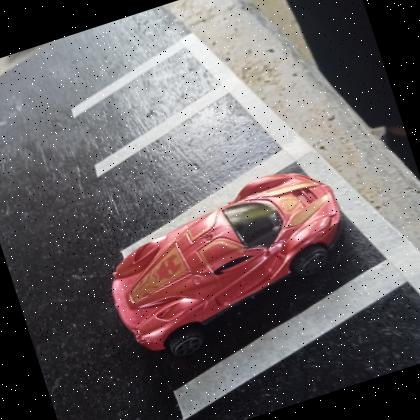Car: (112, 173, 342, 359)
